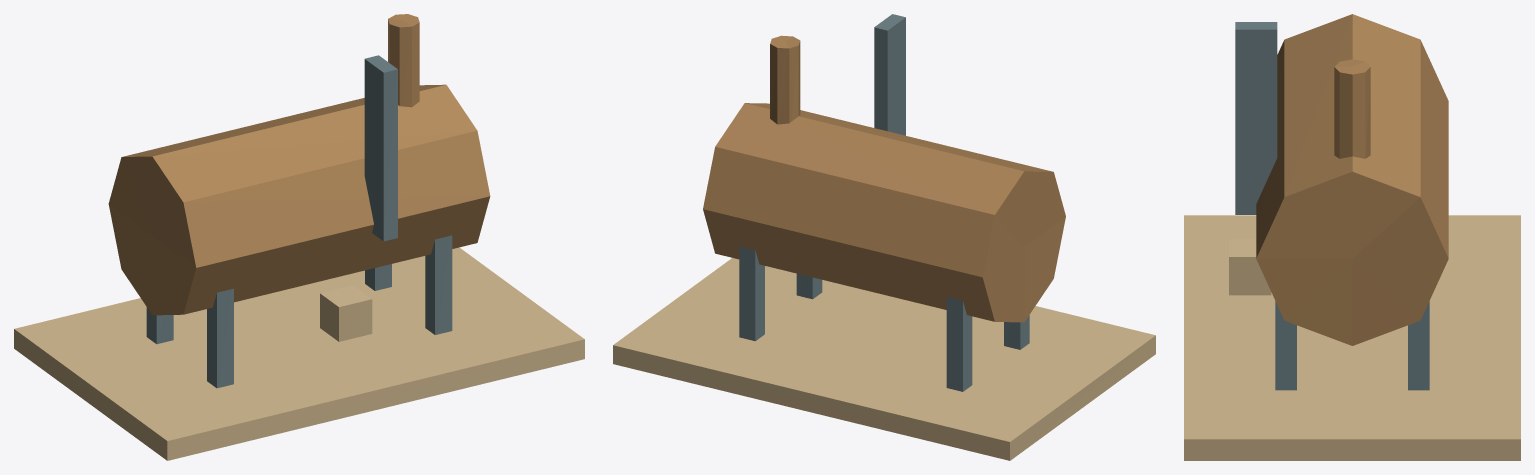
File: Lime-Storage.glb
3 renders of one model, left to right at view 1: azimuth 30°, elevation 25°; view 2: azimuth 150°, elevation 25°; view 3: azimuth 270°, elevation 25°, orthographic. The views are drawn at different scales.
Visible parts, largest first — view 1: lime-storage-static-lime-concrete, lime-storage-static-lime-teal, lime-storage-static-lime-iron, lime-storage-static-lime-galv, lime-storage-static-lime-cream; view 2: lime-storage-static-lime-concrete, lime-storage-static-lime-teal, lime-storage-static-lime-iron, lime-storage-static-lime-galv; view 3: lime-storage-static-lime-concrete, lime-storage-static-lime-teal, lime-storage-static-lime-iron, lime-storage-static-lime-galv, lime-storage-static-lime-cream.
Boxes of the visible parts, x1=… form: lime-storage-static-lime-concrete: x1=14, y1=247, x2=584, y2=460; lime-storage-static-lime-teal: x1=108, y1=84, x2=490, y2=315; lime-storage-static-lime-iron: x1=146, y1=55, x2=452, y2=388; lime-storage-static-lime-galv: x1=388, y1=14, x2=419, y2=107; lime-storage-static-lime-cream: x1=320, y1=285, x2=372, y2=341; lime-storage-static-lime-concrete: x1=613, y1=258, x2=1155, y2=460; lime-storage-static-lime-teal: x1=703, y1=103, x2=1065, y2=322; lime-storage-static-lime-iron: x1=739, y1=14, x2=1029, y2=391; lime-storage-static-lime-galv: x1=770, y1=35, x2=800, y2=124; lime-storage-static-lime-concrete: x1=1184, y1=215, x2=1520, y2=460; lime-storage-static-lime-teal: x1=1256, y1=14, x2=1448, y2=345; lime-storage-static-lime-iron: x1=1235, y1=22, x2=1429, y2=390; lime-storage-static-lime-galv: x1=1334, y1=59, x2=1370, y2=158; lime-storage-static-lime-cream: x1=1229, y1=239, x2=1271, y2=295.
Bounding box in the file's own units: 4.4 × 3.15 × 2.8.
